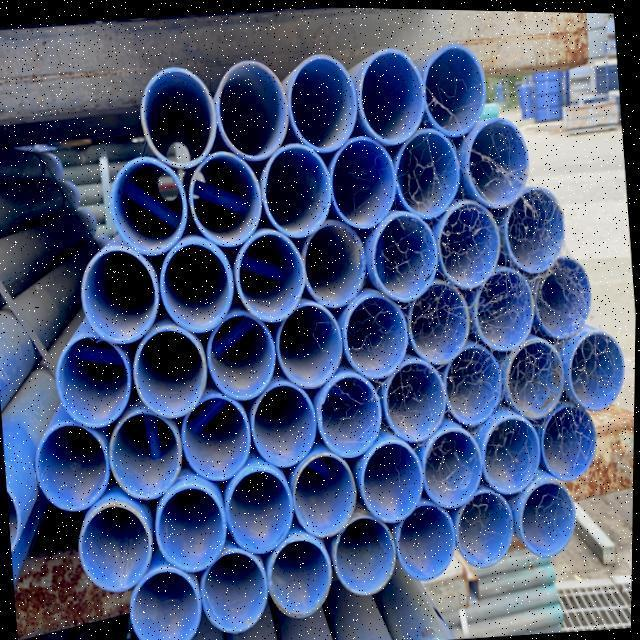pipe: (348, 47, 430, 147), (80, 245, 163, 343), (281, 55, 360, 153), (109, 156, 188, 254), (215, 60, 290, 159), (160, 232, 235, 329), (139, 70, 213, 168), (35, 419, 112, 512), (55, 330, 133, 421), (78, 501, 155, 593), (261, 144, 334, 241), (133, 327, 208, 421), (235, 225, 308, 320), (154, 481, 230, 572), (423, 41, 496, 135), (189, 152, 263, 244), (106, 411, 182, 500), (401, 270, 473, 363), (331, 137, 402, 231), (373, 207, 444, 301), (343, 291, 413, 382), (180, 390, 252, 478), (248, 379, 319, 467), (463, 119, 533, 208), (207, 311, 277, 400), (200, 547, 272, 632), (357, 435, 425, 524), (226, 466, 298, 550), (276, 298, 343, 388), (292, 449, 361, 536), (439, 197, 504, 289), (315, 370, 383, 457), (399, 123, 464, 214), (502, 183, 565, 276), (301, 219, 366, 308), (383, 358, 451, 442), (268, 534, 336, 618), (531, 252, 597, 338), (129, 568, 204, 640), (335, 513, 401, 594), (507, 332, 567, 421), (475, 260, 536, 346), (541, 386, 597, 479), (569, 321, 627, 410), (395, 499, 457, 582), (443, 339, 502, 425), (423, 426, 485, 507), (483, 413, 544, 492), (519, 474, 580, 552), (456, 484, 517, 561)
